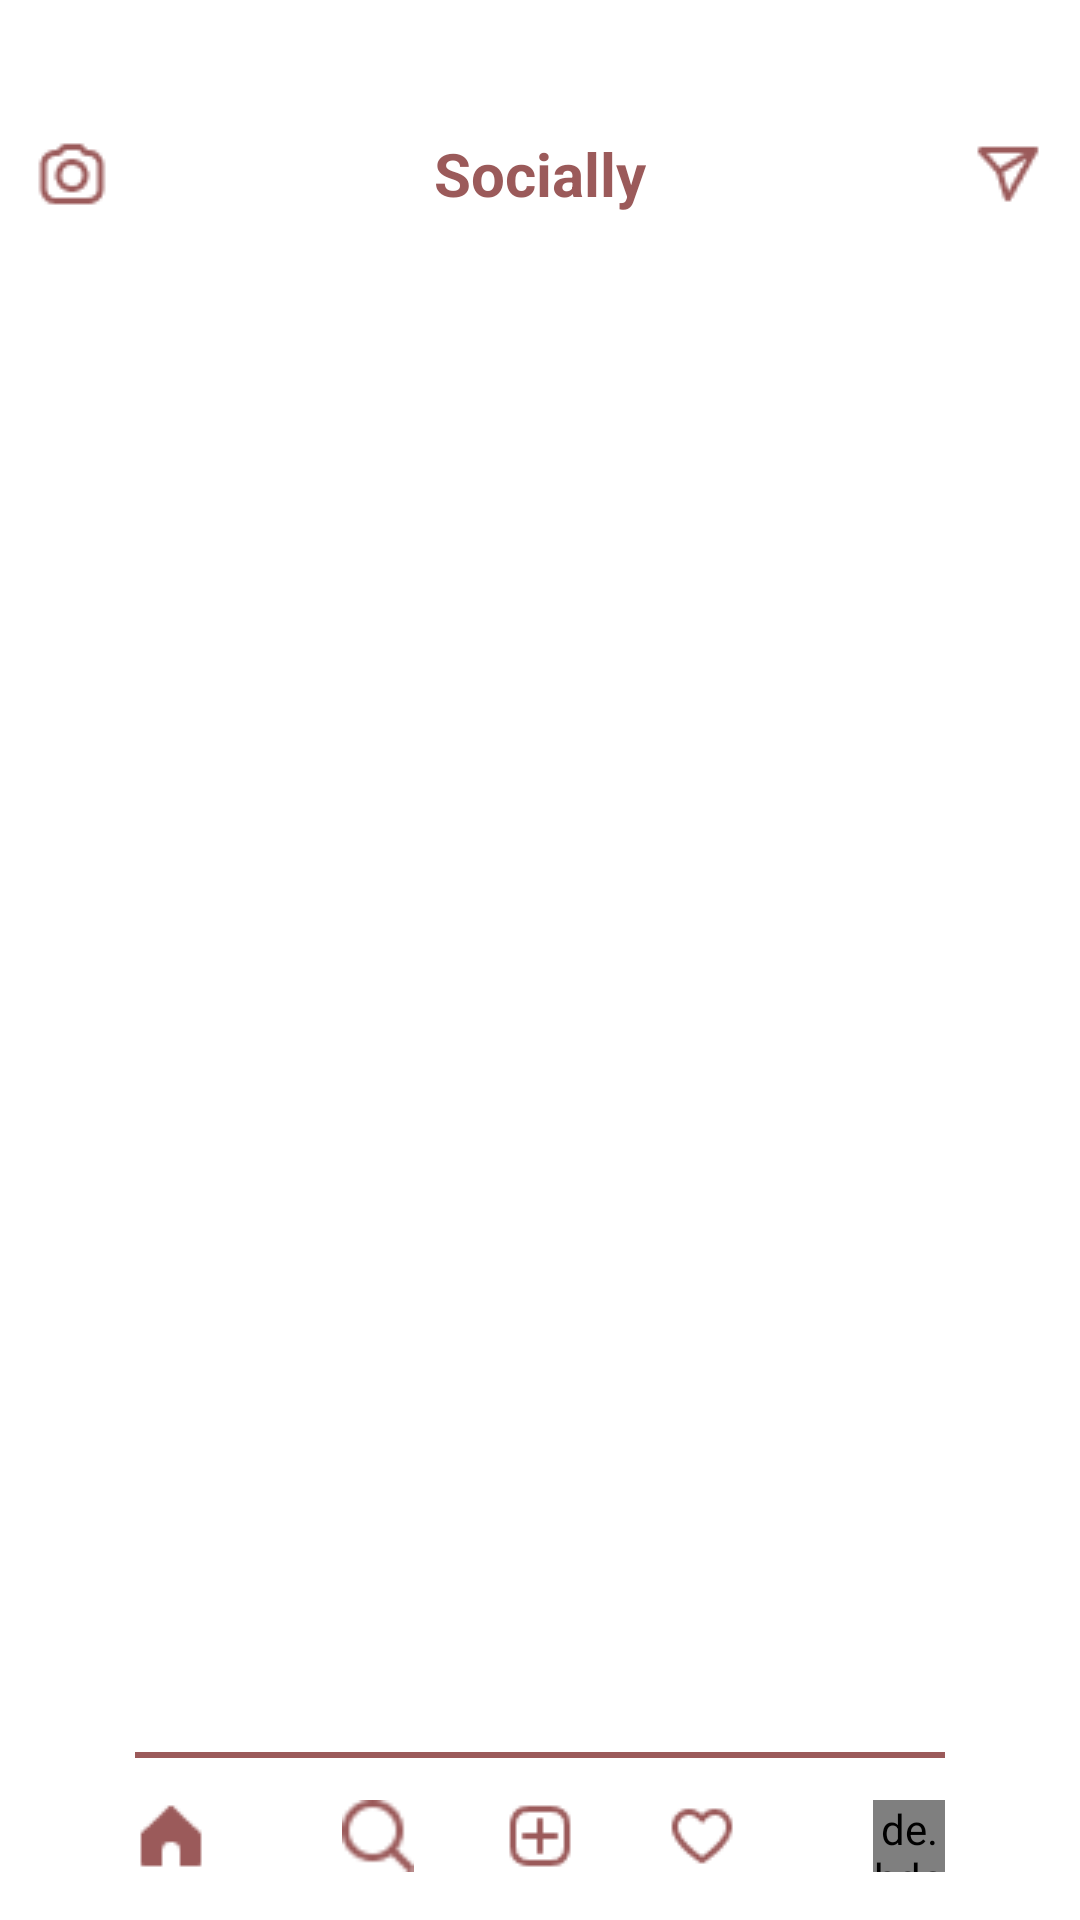

Icon click points for this 1080x1920 phone screenshot, format (x,y):
camera: (72,174)
create: (540,1836)
home: (171,1836)
like: (702,1836)
search: (378,1836)
share: (1008,174)
